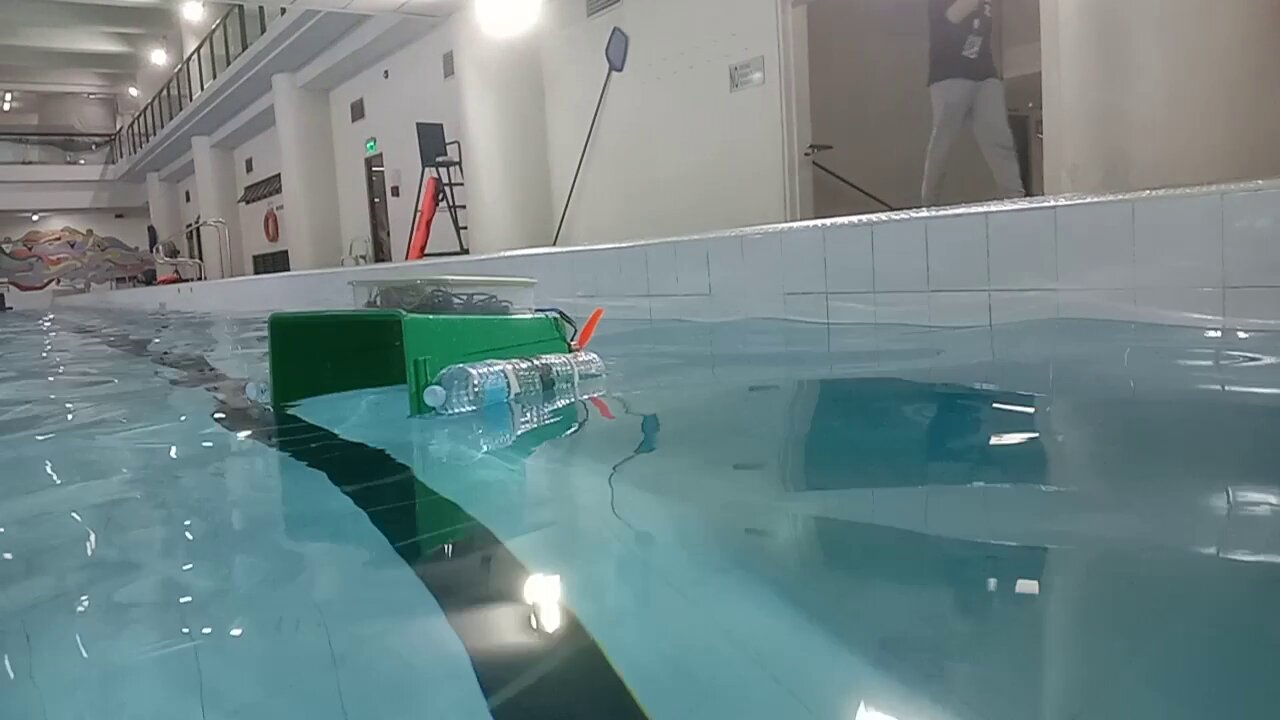drone: (241, 272, 609, 419)
